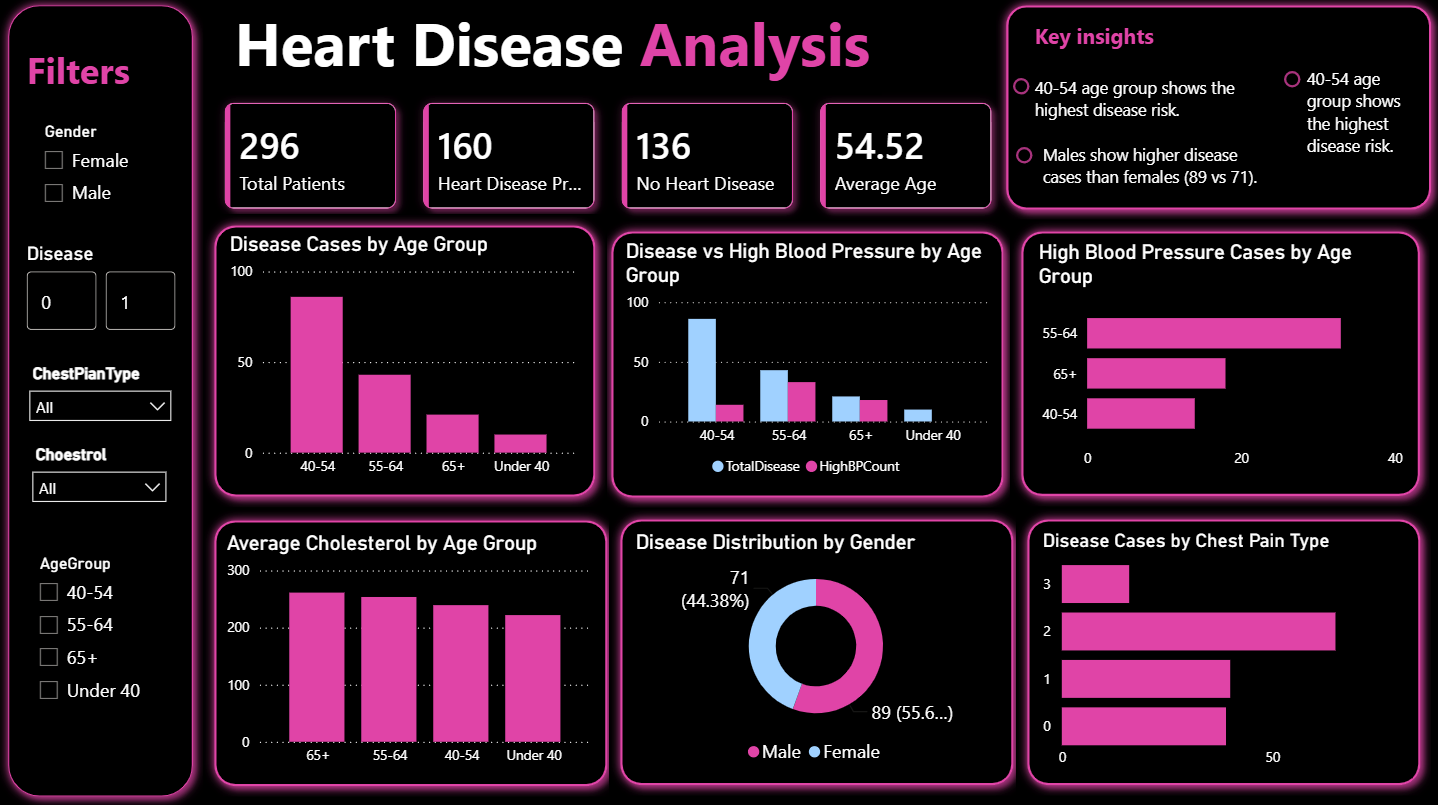

This screenshot's page, from the dashboard's own definition file:
{"tool":"powerbi","page":{"name":"Page 1","canvas":[1280,720],"ordinal":0},"visuals":[{"type":"cardVisual","fields":{"Data":["heart.Total Patients","heart.Heart Disease Present","heart.No Heart Disease","Avg(heart.age)"]},"box":[172.2,66.1,738.2,152.7],"z":0},{"type":"shape","box":[533.8,199.5,368,256.3],"z":1000},{"type":"shape","box":[181.9,456.2,368.6,255.8],"z":2000},{"type":"shape","box":[541.8,455.2,368.6,255.8],"z":3000},{"type":"shape","box":[902.6,455.2,368.6,255.8],"z":4000},{"type":"shape","box":[897.8,199.4,373.5,254.8],"z":5000},{"type":"shape","box":[181.9,194.5,357.9,260.7],"z":6000},{"type":"shape","box":[0,0,181.9,719.8],"z":7000},{"type":"clusteredColumnChart","title":"Disease Cases by Age Group","fields":{"Category":["heart.AgeGroup"],"Y":["heart.TotalDisease"]},"box":[200.4,210.1,317.1,225.7],"z":8000},{"type":"clusteredColumnChart","title":"Average Cholesterol by Age Group","fields":{"Category":["heart.AgeGroup"],"Y":["Avg(heart.chol)"]},"box":[197.4,475.6,333.6,216.9],"z":9000},{"type":"barChart","title":"\tHigh Blood Pressure Cases by Age Group","fields":{"Category":["heart.AgeGroup"],"Y":["heart.HighBPCount"]},"box":[918.2,216.9,332.6,212],"z":10000},{"type":"donutChart","title":"Disease Distribution by Gender","fields":{"Category":["heart.sex"],"Y":["heart.TotalDisease"]},"box":[560.2,474.7,329.7,216.9],"z":11000},{"type":"barChart","title":"Disease Cases by Chest Pain Type","fields":{"Category":["heart.cp"],"Y":["heart.TotalDisease"]},"box":[921.1,473.7,332.6,220.8],"z":12000},{"type":"slicer","fields":{"Values":["heart.AgeGroup"]},"box":[23.9,491.2,124.1,157.8],"z":13000},{"type":"slicer","title":"ChestPain","fields":{"Values":["heart.cp"]},"box":[17.7,322.8,146.3,72.7],"z":14000},{"type":"slicer","fields":{"Values":["heart.sex"]},"box":[28.2,108,123.5,86.6],"z":15000},{"type":"advancedSlicerVisual","title":"Disease","fields":{"Values":["heart.target"]},"box":[20.4,218.8,142,83.6],"z":16000},{"type":"textbox","box":[200.4,0,582.6,88.5],"z":17000},{"type":"clusteredColumnChart","title":"Disease vs High Blood Pressure by Age Group","fields":{"Category":["heart.AgeGroup"],"Y":["heart.TotalDisease","heart.HighBPCount"]},"box":[551.5,215.9,333.6,219.8],"z":18000},{"type":"shape","box":[885.1,0,394.9,199.4],"z":19000},{"type":"textbox","box":[20.4,38.9,116.7,53.5],"z":20000},{"type":"slicer","fields":{"Values":["heart.chol"]},"box":[20.4,394.6,139.2,59.4],"z":21000},{"type":"textbox","box":[914.3,18.5,141,40.9],"z":22000},{"type":"textbox","box":[1155.5,58.4,110.9,98.2],"z":23000},{"type":"textbox","box":[914.3,66.1,206.2,59.3],"z":24000},{"type":"textbox","box":[921.1,125.5,218.8,52.5],"z":25000},{"type":"shape","box":[899.7,73.9,14.6,14.6],"z":26000},{"type":"shape","box":[1139.9,67.1,14.6,14.6],"z":27000},{"type":"shape","box":[902.6,135.2,14.6,14.6],"z":28000}]}

Visuals, with their boxes in screenshot pixels (x1, y1, x2, y2), scaled from the page's 1280x720 canvas onto the 1438x805 screenshot:
cardVisual - heart.Total Patients x heart.Heart Disease Present: box(193, 74, 1023, 245)
shape: box(600, 223, 1013, 510)
shape: box(204, 510, 618, 796)
shape: box(609, 509, 1023, 795)
shape: box(1014, 509, 1428, 795)
shape: box(1009, 223, 1428, 508)
shape: box(204, 217, 606, 509)
shape: box(0, 0, 204, 804)
"Disease Cases by Age Group" clusteredColumnChart: box(225, 235, 581, 487)
"Average Cholesterol by Age Group" clusteredColumnChart: box(222, 532, 597, 774)
"	High Blood Pressure Cases by Age Group" barChart: box(1032, 243, 1405, 480)
"Disease Distribution by Gender" donutChart: box(629, 531, 1000, 773)
"Disease Cases by Chest Pain Type" barChart: box(1035, 530, 1408, 776)
slicer - heart.AgeGroup: box(27, 549, 166, 726)
"ChestPain" slicer: box(20, 361, 184, 442)
slicer - heart.sex: box(32, 121, 170, 218)
"Disease" advancedSlicerVisual: box(23, 245, 182, 338)
textbox: box(225, 0, 880, 99)
"Disease vs High Blood Pressure by Age Group" clusteredColumnChart: box(620, 241, 994, 487)
shape: box(994, 0, 1437, 223)
textbox: box(23, 43, 154, 103)
slicer - heart.chol: box(23, 441, 179, 508)
textbox: box(1027, 21, 1186, 66)
textbox: box(1298, 65, 1423, 175)
textbox: box(1027, 74, 1259, 140)
textbox: box(1035, 140, 1281, 199)
shape: box(1011, 83, 1027, 99)
shape: box(1281, 75, 1297, 91)
shape: box(1014, 151, 1030, 167)
